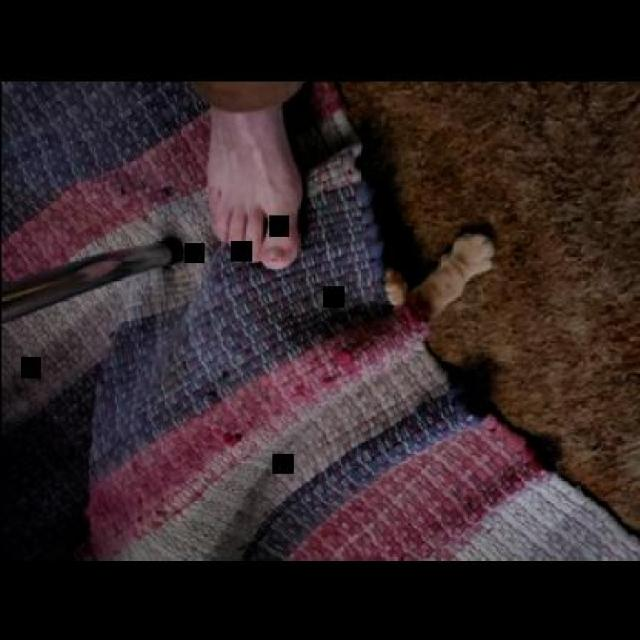unauthorized: (342, 78, 638, 556), (382, 229, 496, 322)
